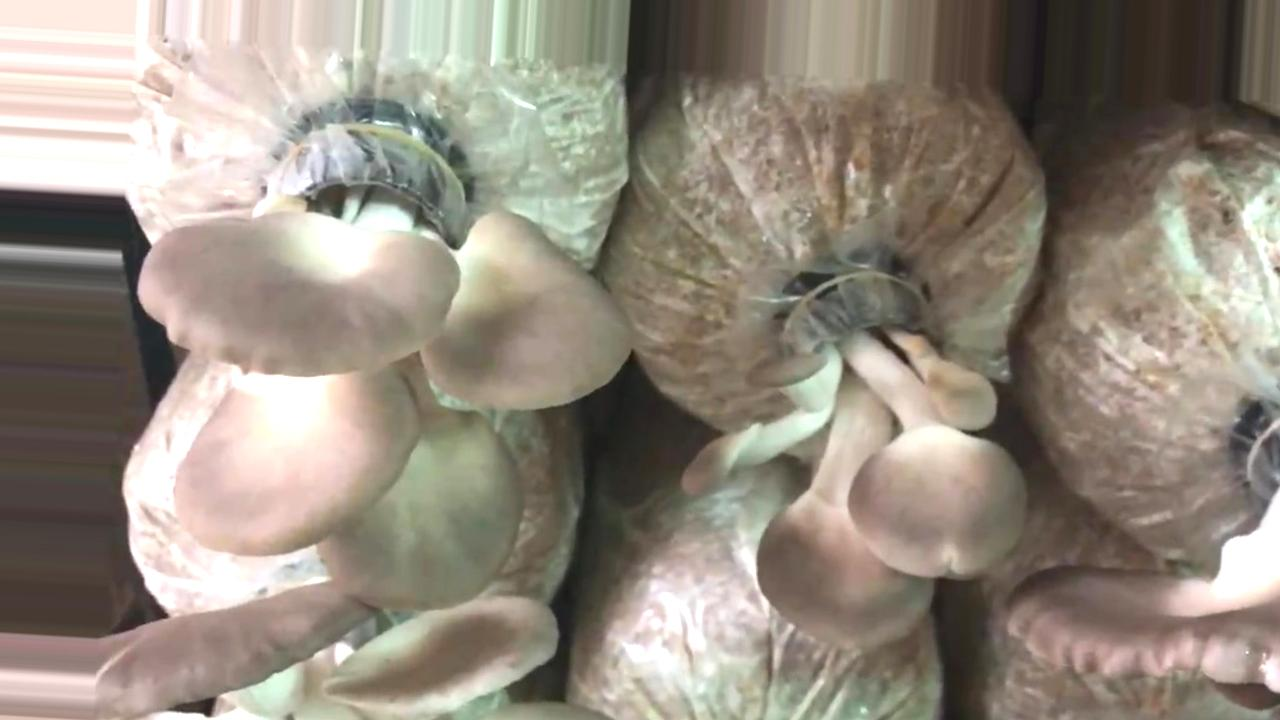nam: (138, 114, 631, 621), (678, 259, 1031, 652), (111, 603, 557, 720), (1024, 575, 1280, 682)
